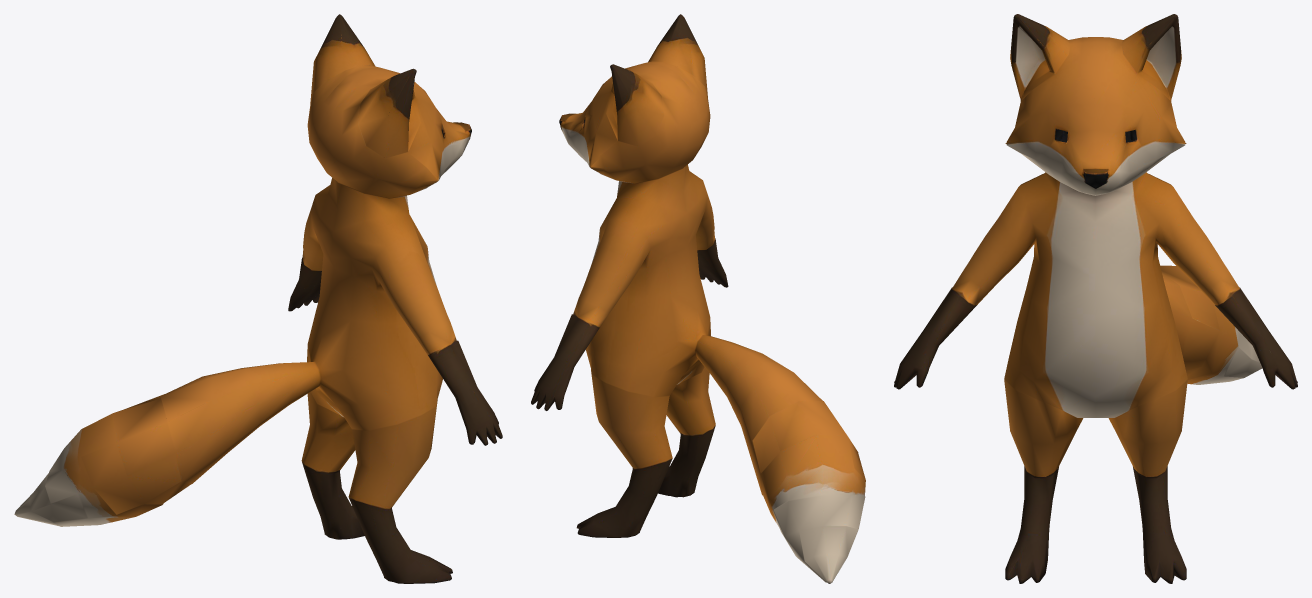
The model's file is fox_a_pose.unrigged.glb.
3 views of the same model, side by side, from view 1: azimuth 30°, elevation 25°; view 2: azimuth 150°, elevation 25°; view 3: azimuth 270°, elevation 25° (orthographic). The views are drawn at different scales.
Parts seen in each view (by area): view 1: tripo_node_9602c523-379d-4e2b-bdbc-b8e3c61fdd12; view 2: tripo_node_9602c523-379d-4e2b-bdbc-b8e3c61fdd12; view 3: tripo_node_9602c523-379d-4e2b-bdbc-b8e3c61fdd12.
Part boxes in pixels (x1=…): tripo_node_9602c523-379d-4e2b-bdbc-b8e3c61fdd12: x1=14, y1=14, x2=502, y2=583; tripo_node_9602c523-379d-4e2b-bdbc-b8e3c61fdd12: x1=531, y1=14, x2=865, y2=583; tripo_node_9602c523-379d-4e2b-bdbc-b8e3c61fdd12: x1=894, y1=14, x2=1297, y2=583.
Size of the model in its own units: 0.7598 by 0.998 by 0.666.
Materials: 1 (1 with a texture image).
